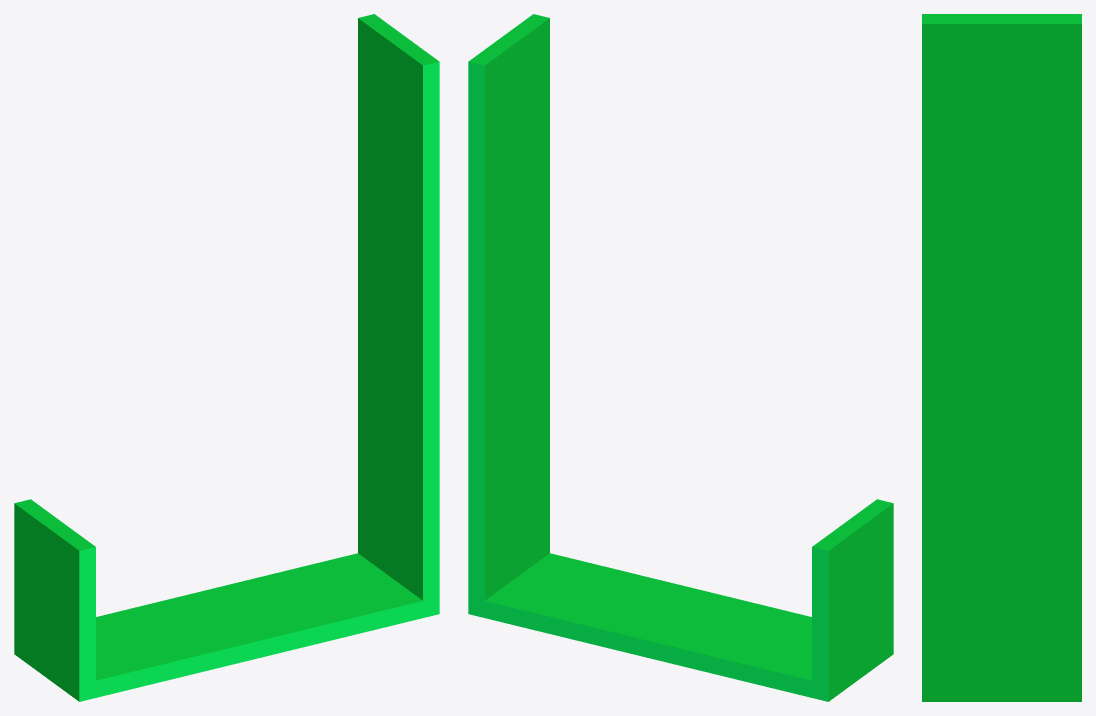
File: 5d774707-f22b-4aae-84cd-4779b4c30f34.glb
3 renders of one model, left to right at view 1: azimuth 30°, elevation 25°; view 2: azimuth 150°, elevation 25°; view 3: azimuth 270°, elevation 25°, orthographic. The views are drawn at different scales.
Visible parts, largest first — view 1: j_AlphaProta_Green; view 2: j_AlphaProta_Green; view 3: j_AlphaProta_Green.
Part boxes in pixels (x1,y1,x2,y2): j_AlphaProta_Green: [14, 14, 439, 701]; j_AlphaProta_Green: [468, 14, 893, 701]; j_AlphaProta_Green: [922, 14, 1081, 701].
Size of what is drawn, in the model's own units: 0.1436 by 0.2105 by 0.045.
2 materials, 2 textured.
